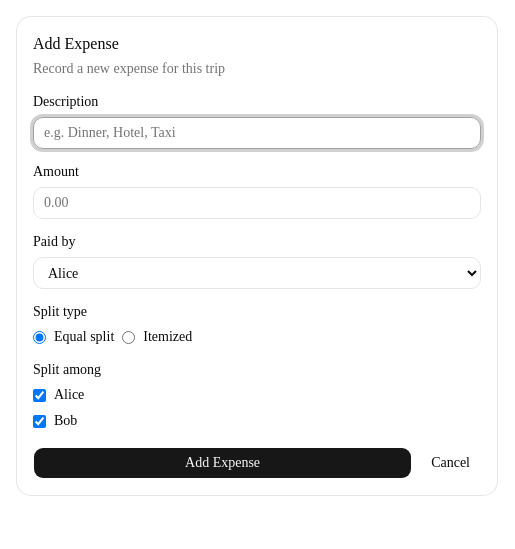
AddExpenseFormView › shows amount invalid error when amount is missing
Step 1. Type "Dinner" into the field with placeholder "e.g. Dinner, Hotel, Taxi" → [257, 133], box left=33, top=117, right=481, bottom=149
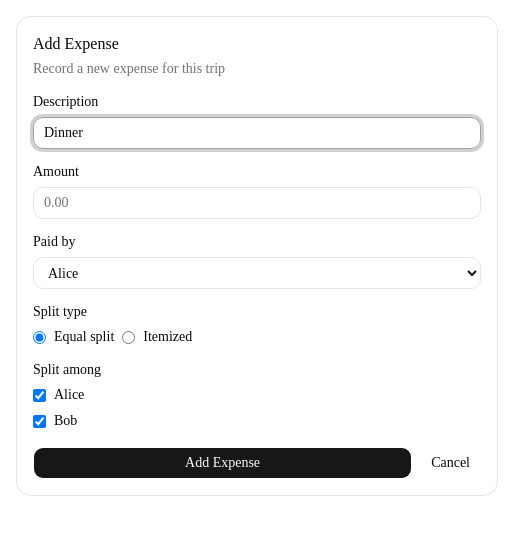
Step 2. Click the button "Add Expense" → [223, 463], box left=33, top=447, right=412, bottom=479
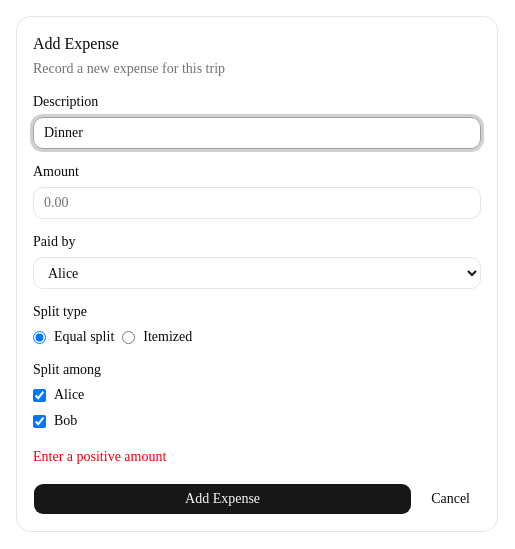
Now the text "Enter a positive amount" is shown, box left=33, top=449, right=166, bottom=464
